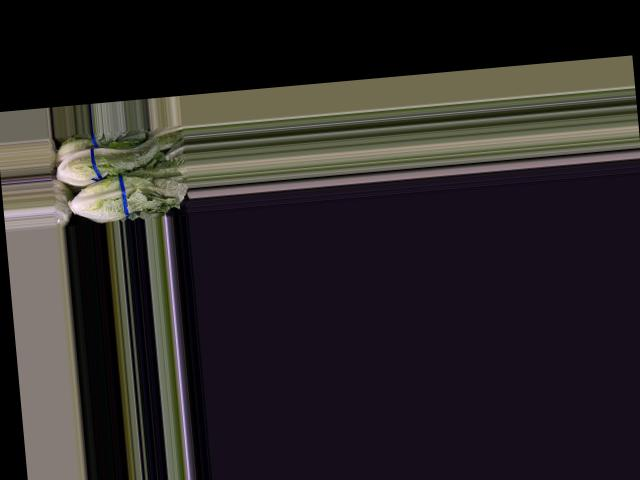lettuce: (52, 133, 163, 188)
